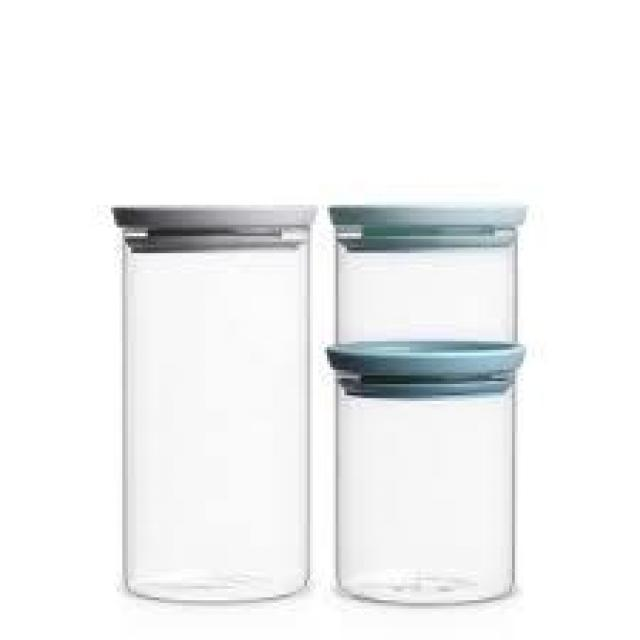non-organic waste: (111, 195, 319, 604), (322, 343, 528, 607), (327, 198, 529, 354)
